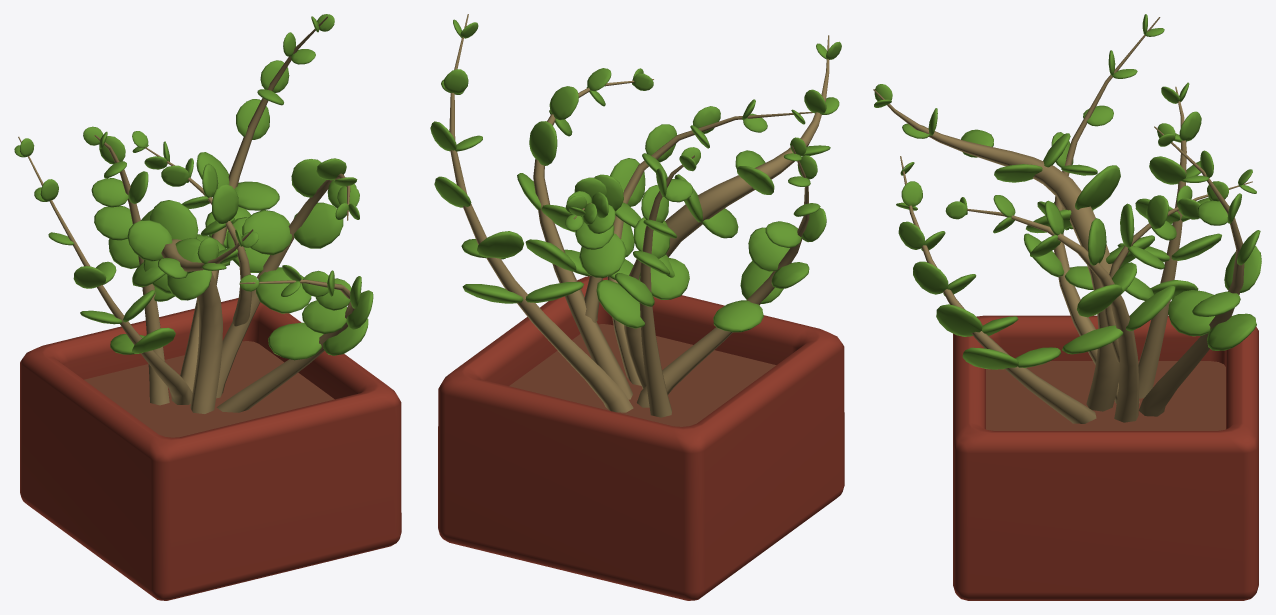
The model's file is Plant2.glb.
3 views of the same model, side by side, from view 1: azimuth 30°, elevation 25°; view 2: azimuth 150°, elevation 25°; view 3: azimuth 270°, elevation 25° (orthographic). The views are drawn at different scales.
Visible parts, largest first — view 1: Plant2; view 2: Plant2; view 3: Plant2.
Boxes of the visible parts, x1,y1,x2,y2 form: Plant2: (14,14,401,600); Plant2: (430,14,844,600); Plant2: (873,14,1261,600).
Bounding box in the file's own units: 0.389 × 0.5282 × 0.3815.
Materials: 1 (1 with a texture image).
